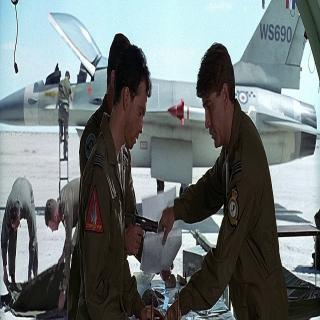gun: (130, 210, 160, 258)
